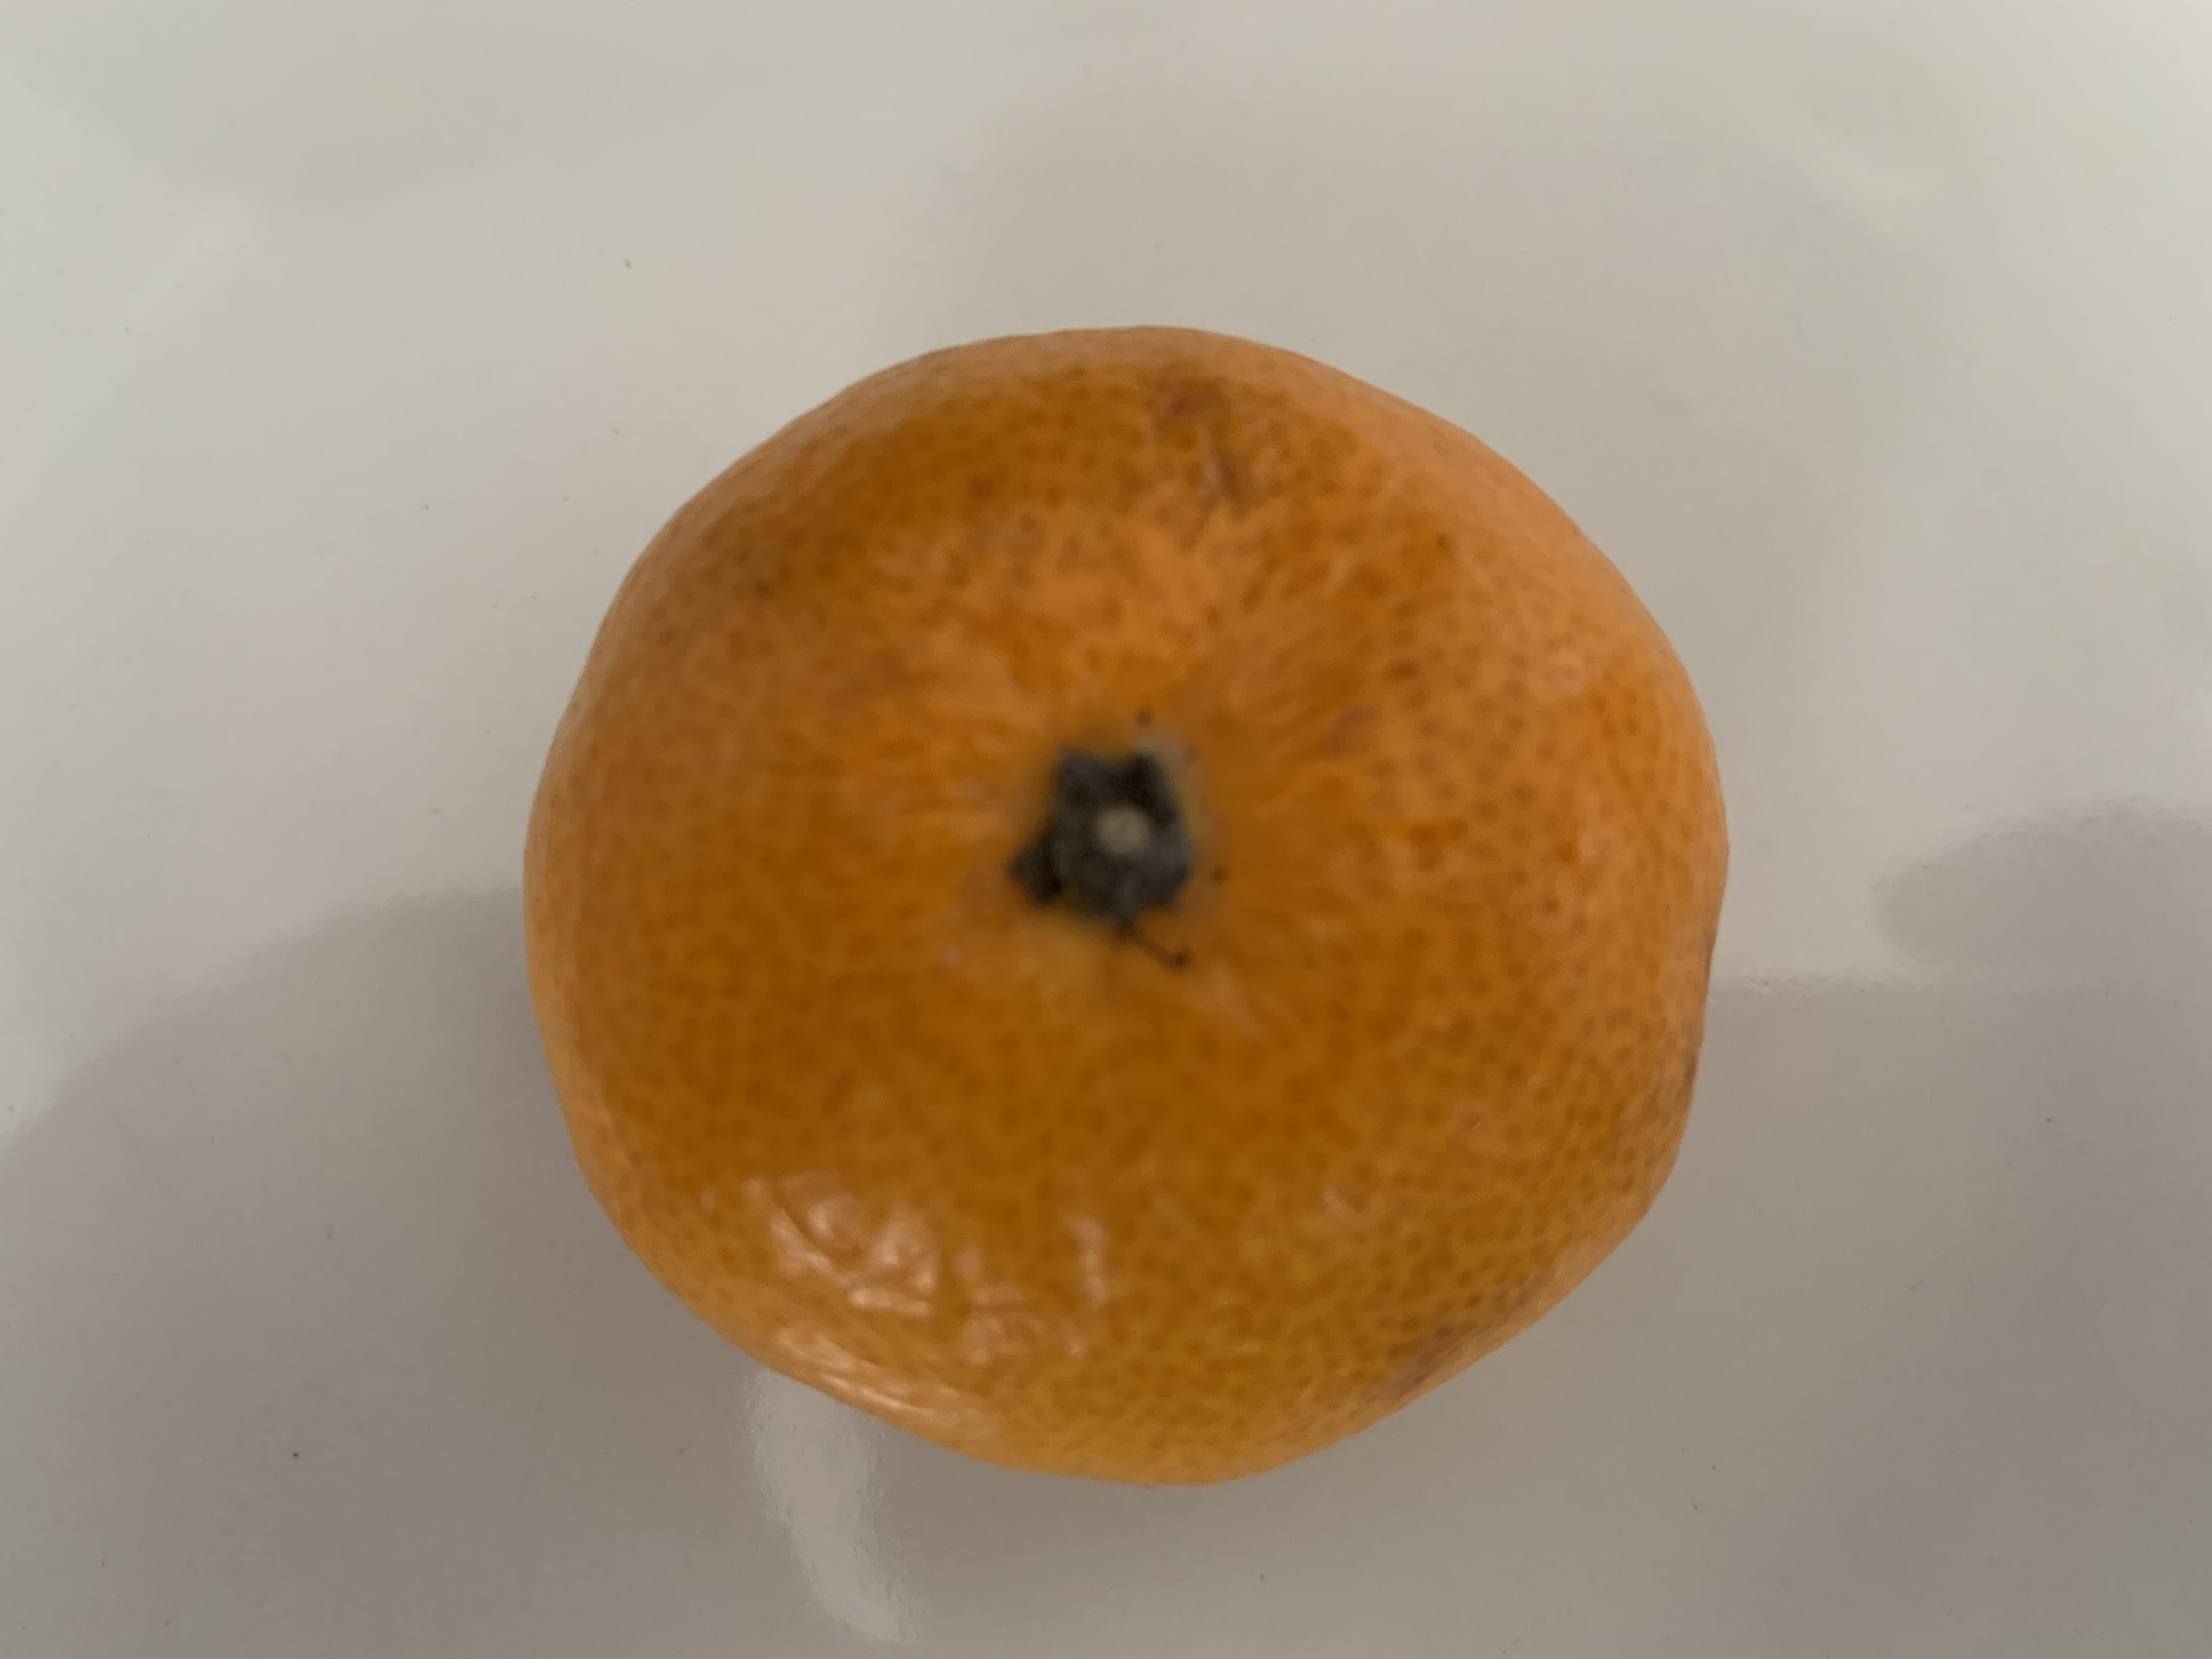orange: (526, 342, 1743, 1480)
